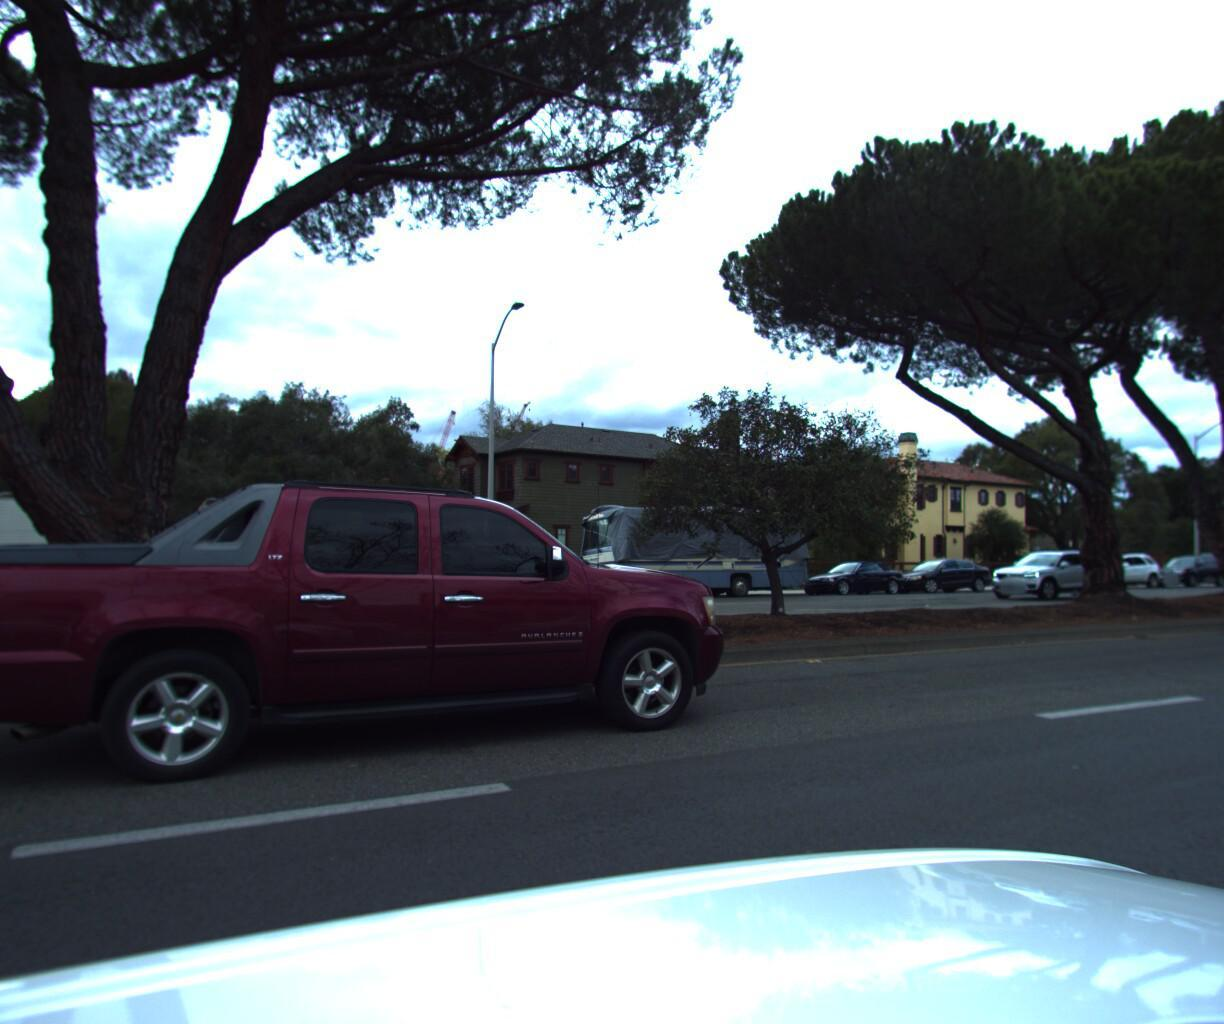car: (0, 431, 753, 806), (976, 548, 1116, 605), (878, 560, 992, 599), (792, 564, 906, 602), (1055, 556, 1157, 595), (1136, 558, 1224, 591)
other_vehicle: (163, 487, 452, 618), (0, 472, 163, 634), (563, 502, 815, 605)
